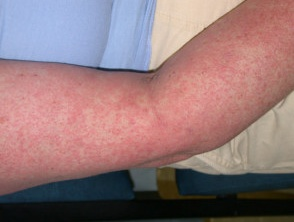SJS-TEN: (0, 0, 294, 215)
